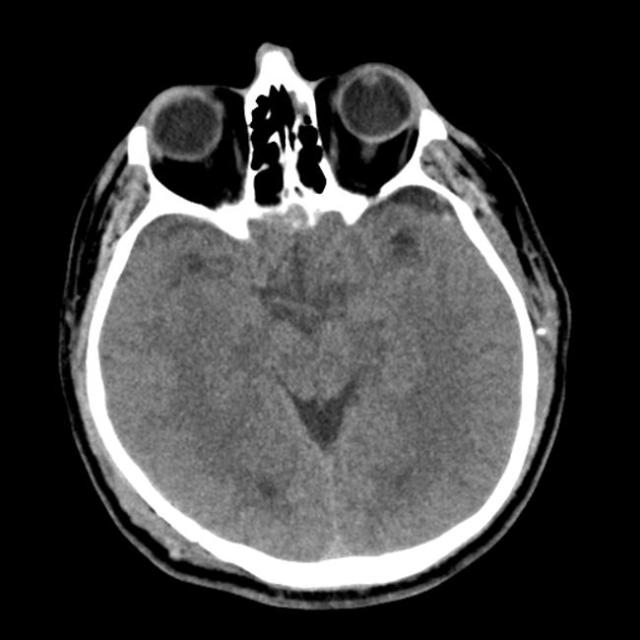lesion: (55, 40, 574, 608)
